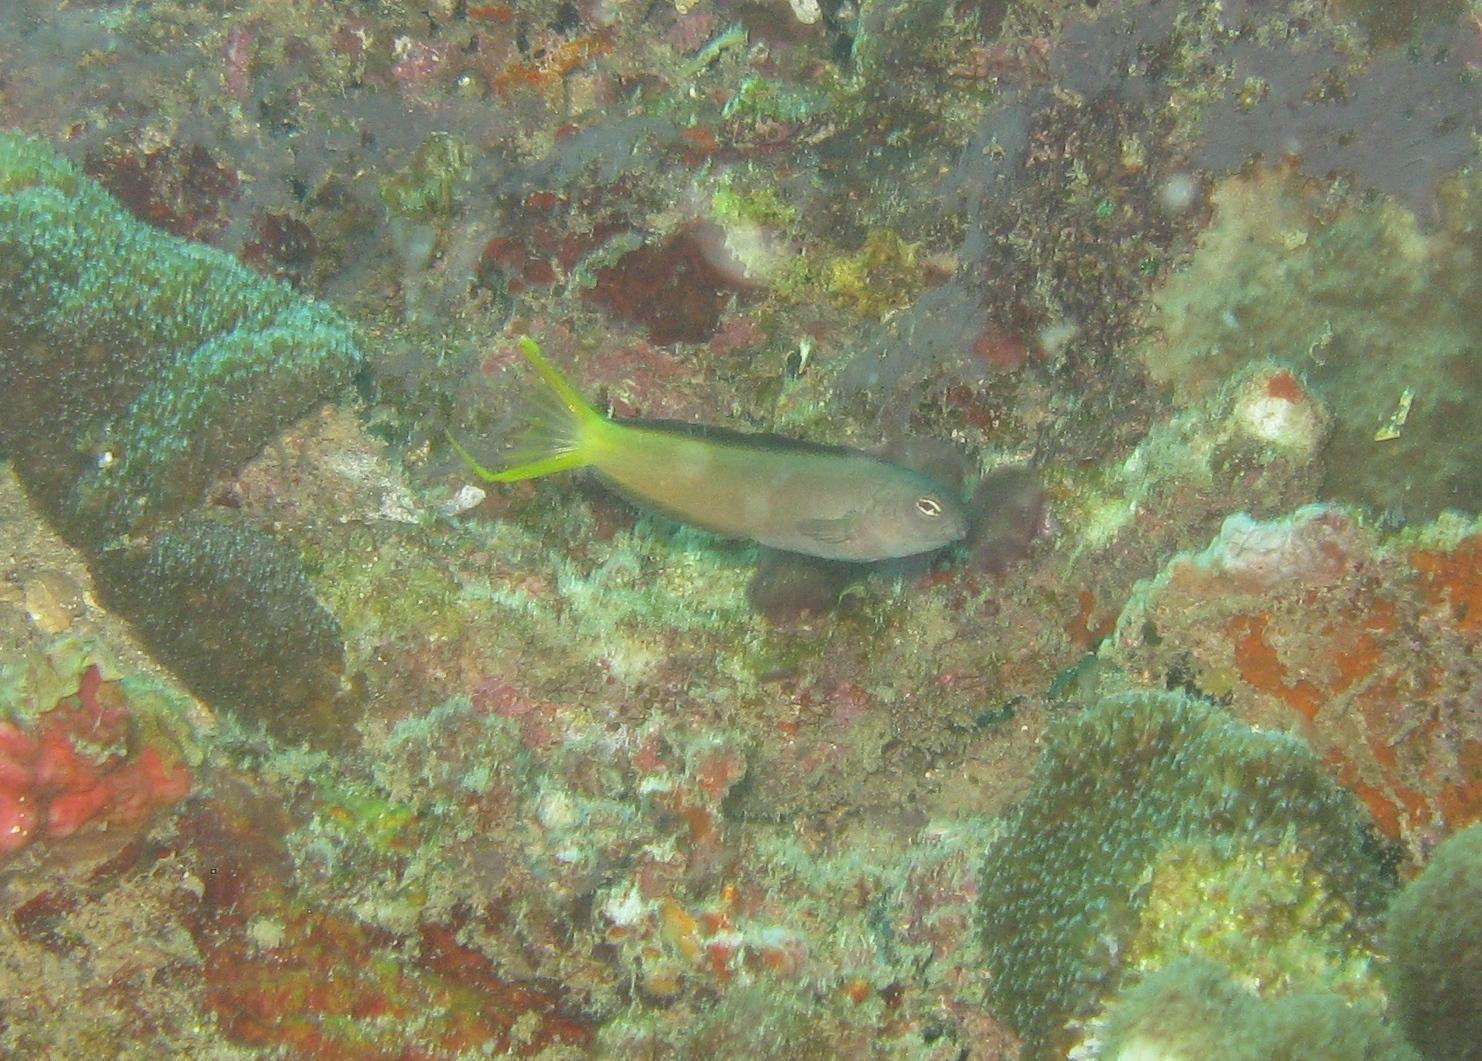Fish: (413, 291, 1024, 665)
